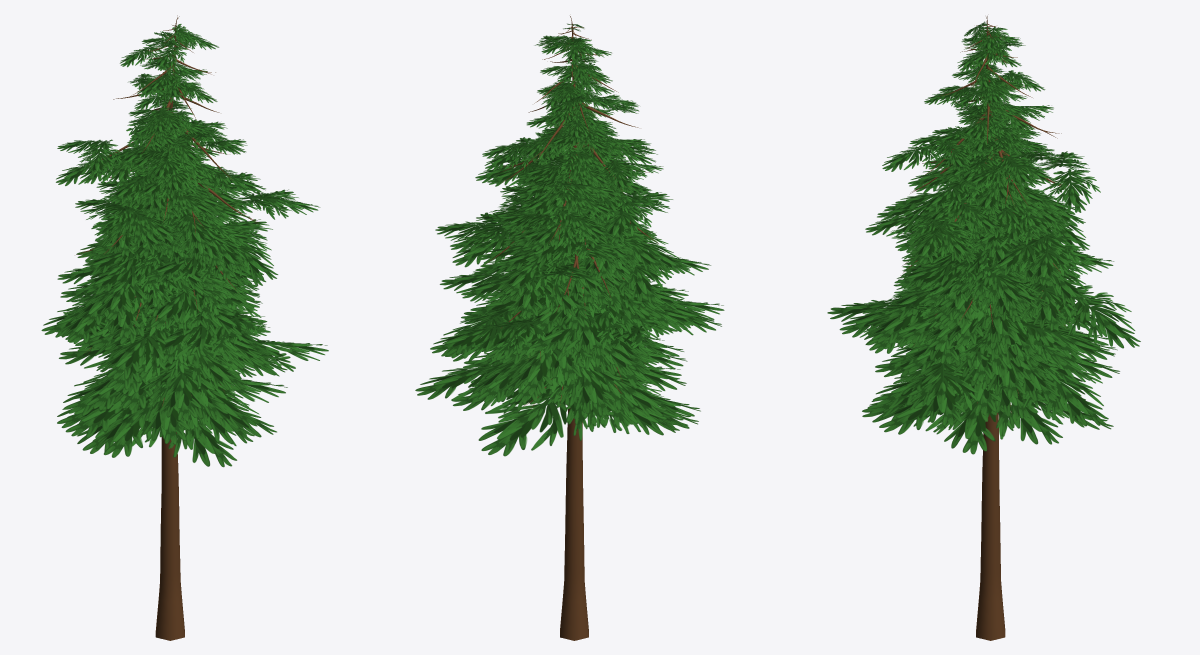
Rendered from Tree.glb.
3 renders of one model, left to right at view 1: azimuth 30°, elevation 25°; view 2: azimuth 150°, elevation 25°; view 3: azimuth 270°, elevation 25°, orthographic.
Parts seen in each view (by area): view 1: tree.001, tree; view 2: tree.001, tree; view 3: tree.001, tree.
Part boxes in pixels (x1,y1,x2,y2): tree.001: (41, 24, 328, 467); tree: (76, 15, 258, 640); tree.001: (415, 23, 724, 456); tree: (485, 16, 658, 640); tree.001: (827, 21, 1140, 454); tree: (900, 16, 1069, 640).
Size of the model in its own units: 6.28 by 12.79 by 7.39.
2 materials, 1 textured.
